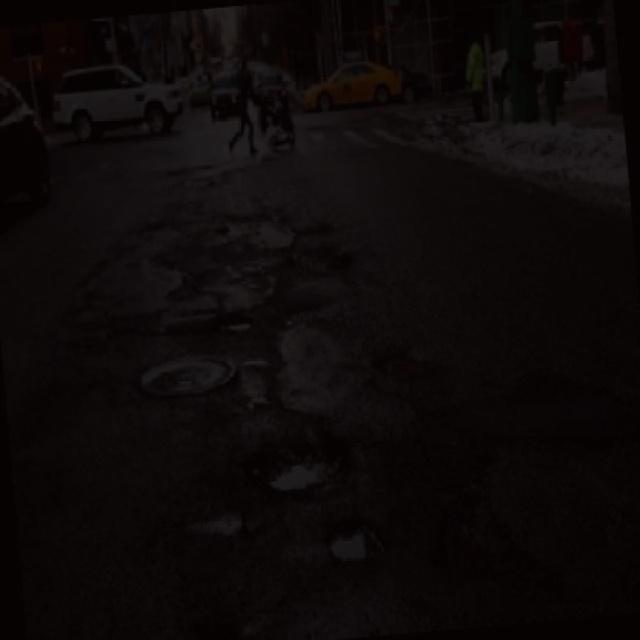Pothole: (431, 481, 570, 593), (443, 367, 640, 444), (66, 211, 190, 318), (244, 438, 356, 500), (286, 244, 374, 311), (365, 332, 441, 388), (234, 346, 284, 418), (321, 514, 388, 564), (170, 308, 262, 342), (181, 500, 255, 540), (234, 205, 301, 248)
